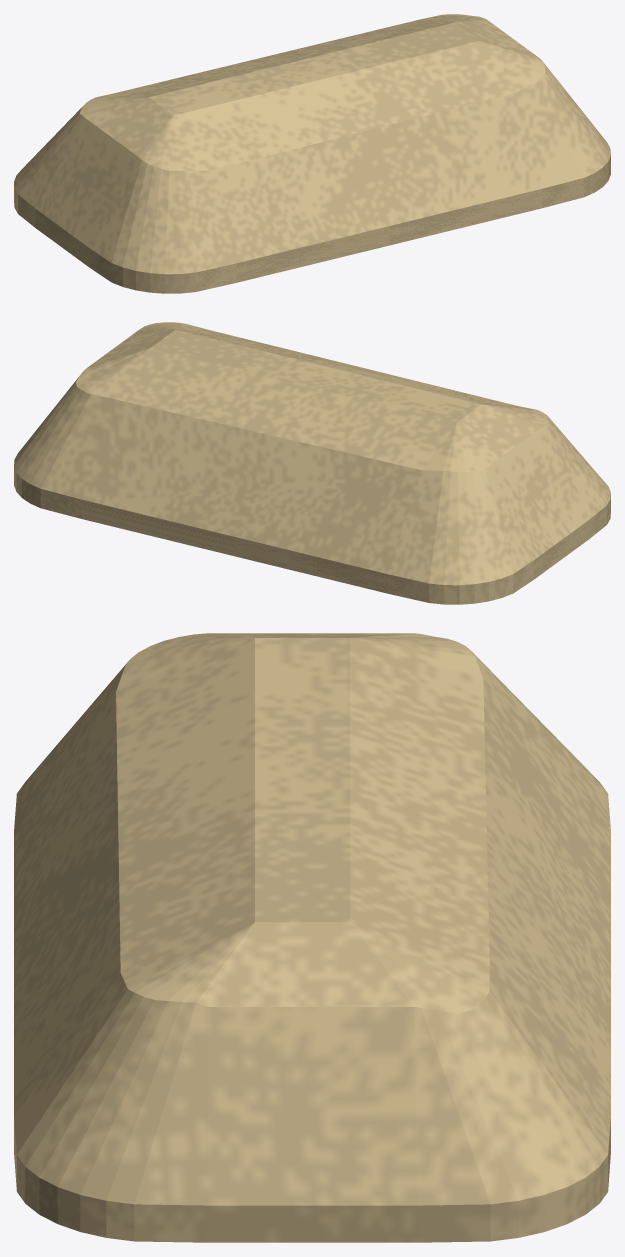
3 renders of one model, top to bottom at view 1: azimuth 30°, elevation 25°; view 2: azimuth 150°, elevation 25°; view 3: azimuth 270°, elevation 25°, orthographic. The views are drawn at different scales.
Parts seen in each view (by area): view 1: 원뿔; view 2: 원뿔; view 3: 원뿔.
Boxes of the visible parts, <box> form: 원뿔: <box>14,14,610,293</box>; 원뿔: <box>14,322,610,604</box>; 원뿔: <box>14,633,610,1242</box>.
Size of the model in its own units: 733 by 170 by 400.
